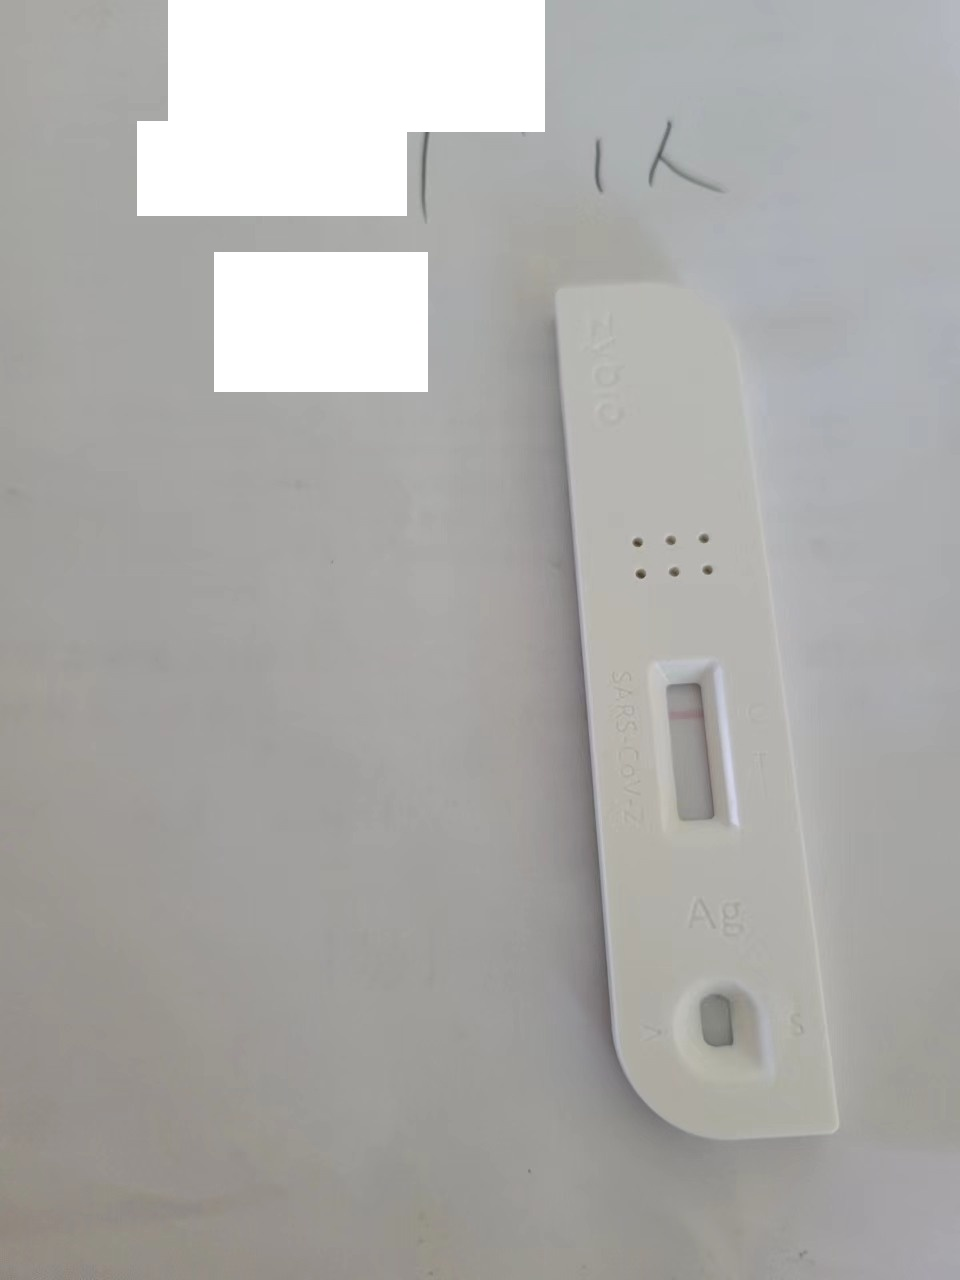negative: (650, 659, 733, 835)
